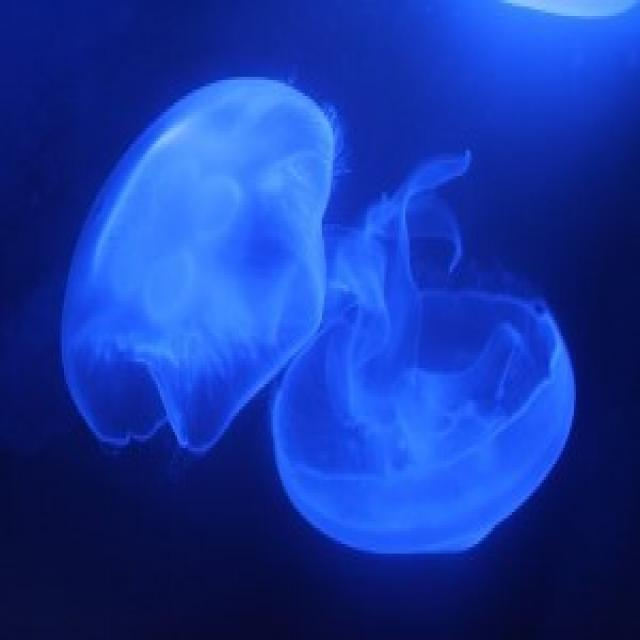Jellyfish: (52, 38, 290, 516), (273, 242, 599, 574)
